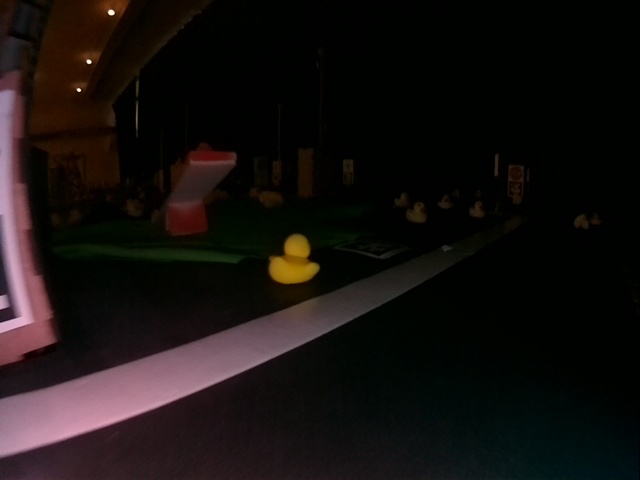Duckie: (270, 237, 316, 283), (407, 204, 426, 222), (573, 213, 589, 227), (472, 200, 482, 215), (439, 196, 448, 204), (396, 193, 405, 201)
Stop sign: (508, 165, 524, 181)
